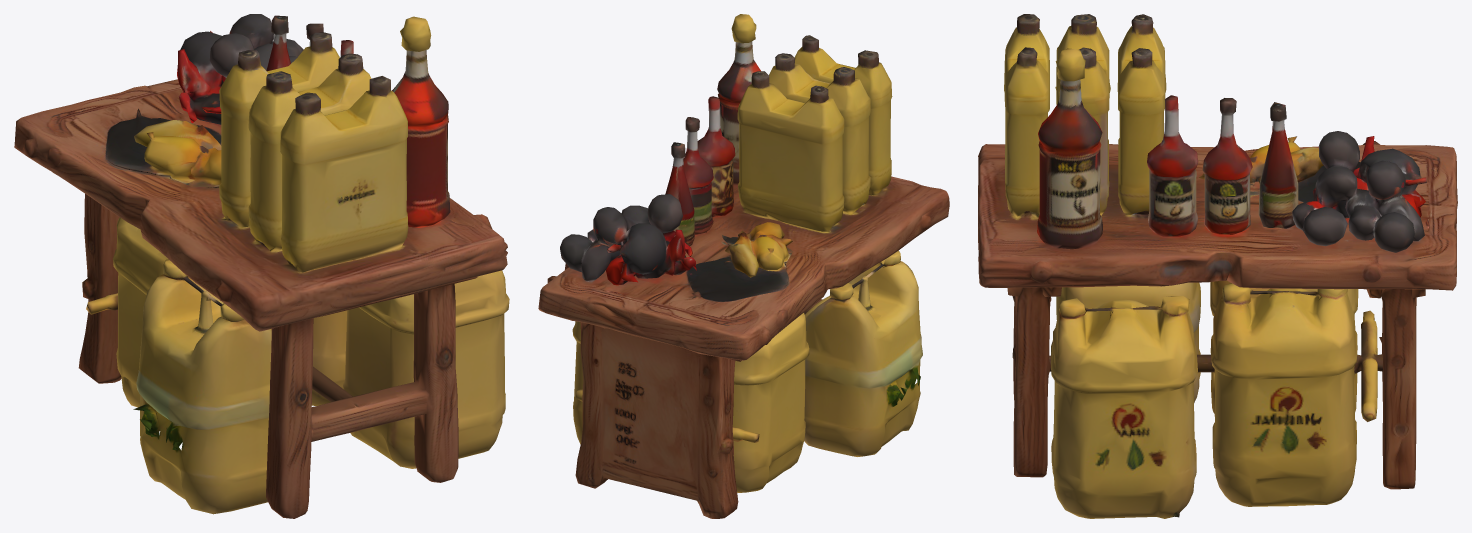
File: palmoil.glb
3 views of the same model, side by side, from view 1: azimuth 30°, elevation 25°; view 2: azimuth 150°, elevation 25°; view 3: azimuth 270°, elevation 25° (orthographic). The views are drawn at different scales.
Parts seen in each view (by area): view 1: tripo_node_f5b63caf-da00-4e5b-97cc-279cecd698a0; view 2: tripo_node_f5b63caf-da00-4e5b-97cc-279cecd698a0; view 3: tripo_node_f5b63caf-da00-4e5b-97cc-279cecd698a0.
Part boxes in pixels (x1=…): tripo_node_f5b63caf-da00-4e5b-97cc-279cecd698a0: x1=14, y1=14, x2=509, y2=518; tripo_node_f5b63caf-da00-4e5b-97cc-279cecd698a0: x1=538, y1=14, x2=949, y2=518; tripo_node_f5b63caf-da00-4e5b-97cc-279cecd698a0: x1=978, y1=14, x2=1457, y2=518.
Size of the model in its own units: 1.7 by 2.2 by 2.2.
1 material, 1 textured.
